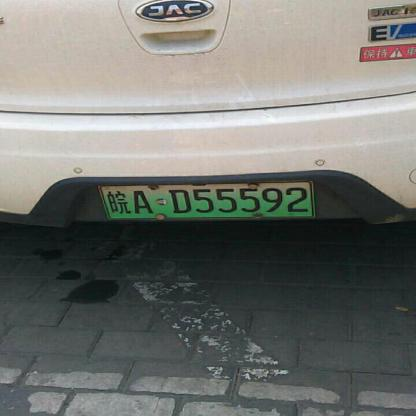lp: (98, 181, 314, 220)
